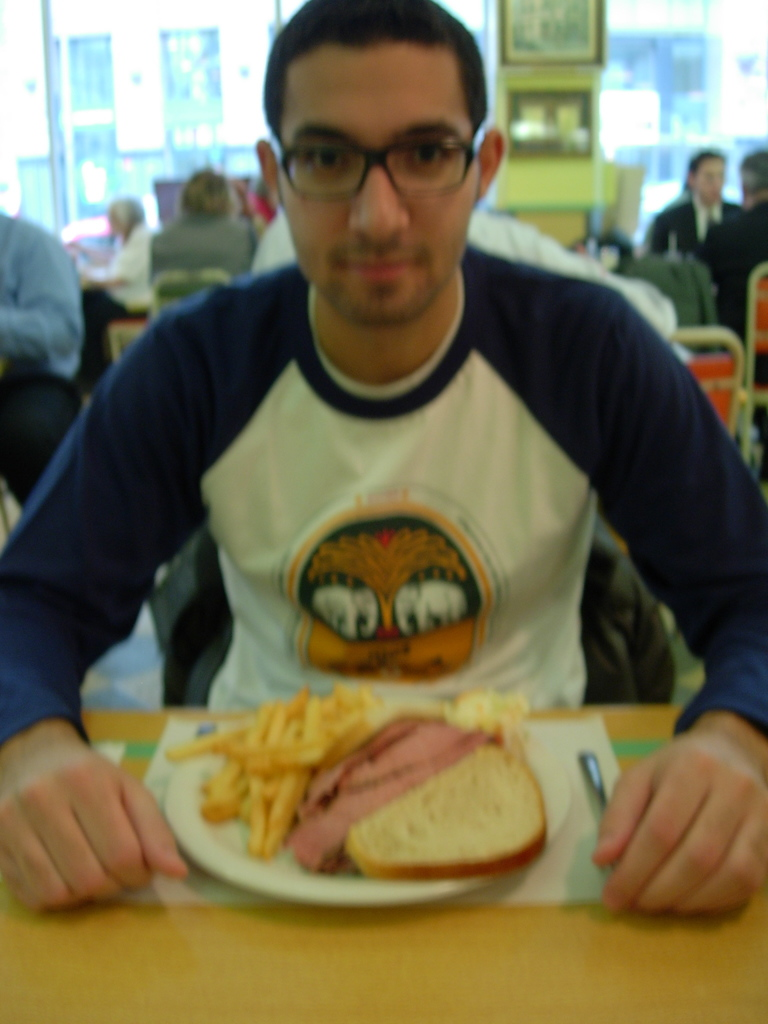French fries: (169, 682, 381, 859)
